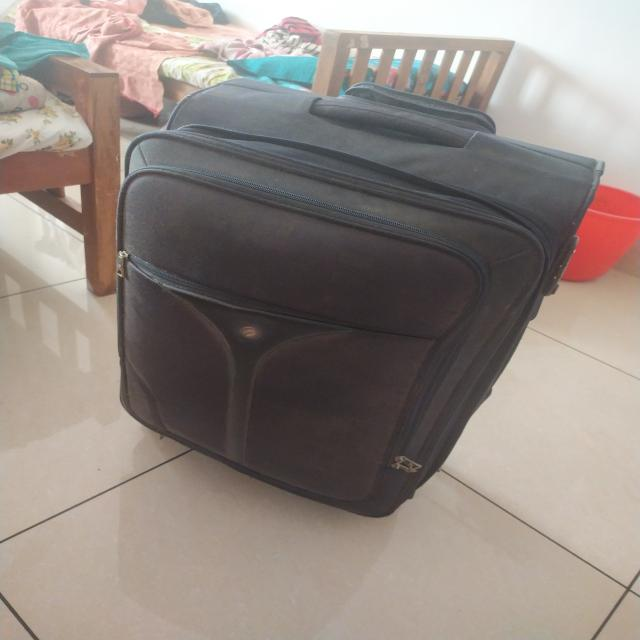suitcaserotation: (106, 77, 610, 520)
